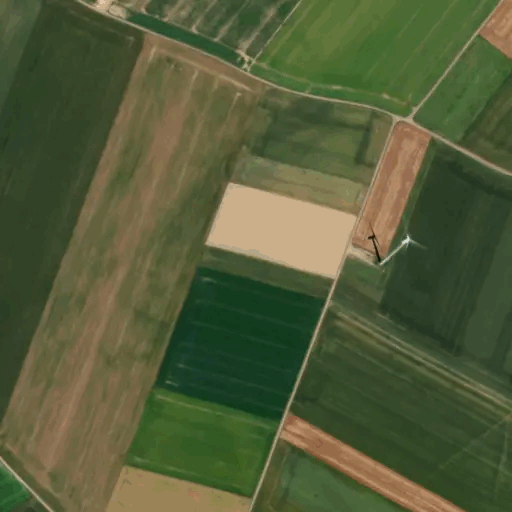wt: (352, 213, 436, 280)
